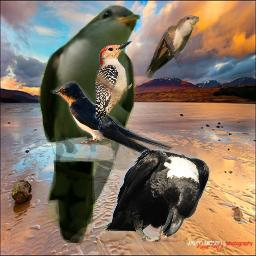Crow: (101, 147, 211, 245)
Cuckoo: (38, 4, 141, 243), (144, 15, 199, 80)
Swallow: (50, 79, 174, 158)
Woodpecker: (95, 40, 132, 133)
